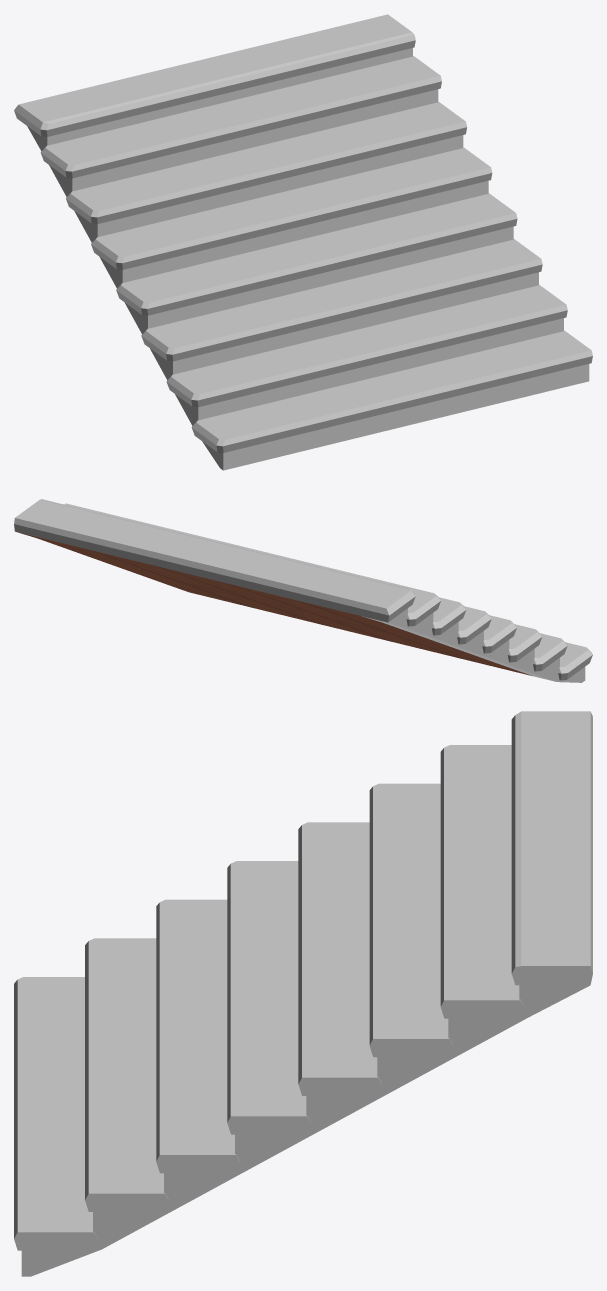
Rendered from SM_Bld_Base_Stairs_Ornate_02_Short.fbx.
3 views of the same model, one above another, from view 1: azimuth 30°, elevation 25°; view 2: azimuth 150°, elevation 25°; view 3: azimuth 270°, elevation 25° (orthographic). The views are drawn at different scales.
Visible parts, largest first — view 1: SM_Bld_Base_Stairs_Ornate_02_Short; view 2: SM_Bld_Base_Stairs_Ornate_02_Short; view 3: SM_Bld_Base_Stairs_Ornate_02_Short.
Part boxes in pixels (bbox=[...]): SM_Bld_Base_Stairs_Ornate_02_Short: bbox=[14, 14, 592, 470]; SM_Bld_Base_Stairs_Ornate_02_Short: bbox=[14, 499, 592, 682]; SM_Bld_Base_Stairs_Ornate_02_Short: bbox=[14, 711, 592, 1276].
Bounding box in the file's own units: 268 × 151 × 254.
